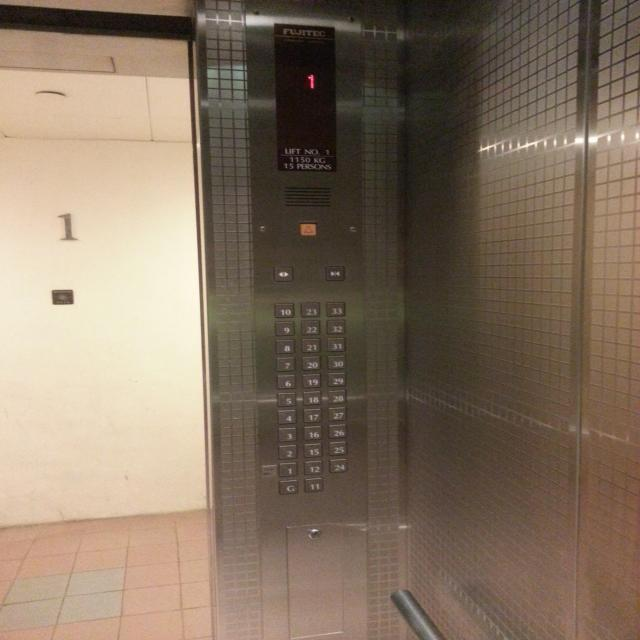1: (278, 462, 298, 476)
10: (275, 303, 294, 317)
11: (304, 478, 324, 492)
12: (303, 460, 322, 475)
15: (302, 443, 322, 457)
16: (303, 425, 322, 440)
17: (303, 408, 322, 423)
18: (302, 390, 322, 405)
19: (301, 374, 321, 388)
2: (278, 445, 298, 459)
20: (301, 356, 321, 370)
21: (301, 338, 321, 353)
22: (300, 321, 320, 335)
23: (300, 302, 320, 317)
24: (328, 458, 348, 473)
25: (327, 441, 347, 455)
26: (328, 424, 347, 438)
27: (328, 407, 347, 421)
28: (327, 389, 347, 404)
29: (327, 372, 346, 386)
3: (278, 427, 297, 442)
30: (327, 355, 346, 370)
31: (326, 338, 345, 351)
32: (326, 319, 345, 334)
33: (325, 302, 345, 316)
4: (277, 410, 297, 424)
5: (277, 392, 297, 407)
6: (276, 375, 296, 389)
7: (276, 358, 295, 371)
8: (275, 339, 295, 354)
9: (274, 322, 295, 336)
G: (279, 479, 299, 495)
alarm: (298, 220, 318, 238)
close: (325, 264, 346, 282)
keyhole: (308, 526, 322, 540)
led: (272, 21, 338, 174)
open: (273, 265, 294, 282)
